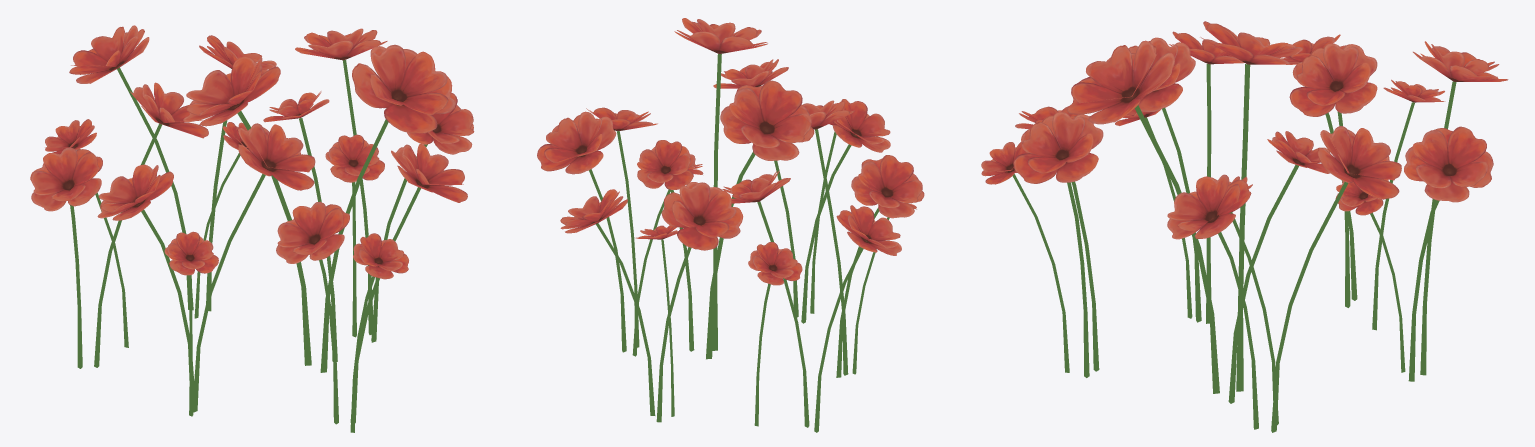
Rendered from MEADOW_SM_Flower_01_03.gltf.
3 renders of one model, left to right at view 1: azimuth 30°, elevation 25°; view 2: azimuth 150°, elevation 25°; view 3: azimuth 270°, elevation 25°, orthographic. The views are drawn at different scales.
Visible parts, largest first — view 1: SM_Flower_01_03_LOD0; view 2: SM_Flower_01_03_LOD0; view 3: SM_Flower_01_03_LOD0.
Boxes of the visible parts, bbox=[...] form: SM_Flower_01_03_LOD0: bbox=[30, 25, 474, 432]; SM_Flower_01_03_LOD0: bbox=[537, 18, 924, 432]; SM_Flower_01_03_LOD0: bbox=[981, 21, 1508, 432].
Size of the model in its own units: 1.09 by 0.8614 by 1.14.
Materials: 1 (1 with a texture image).
